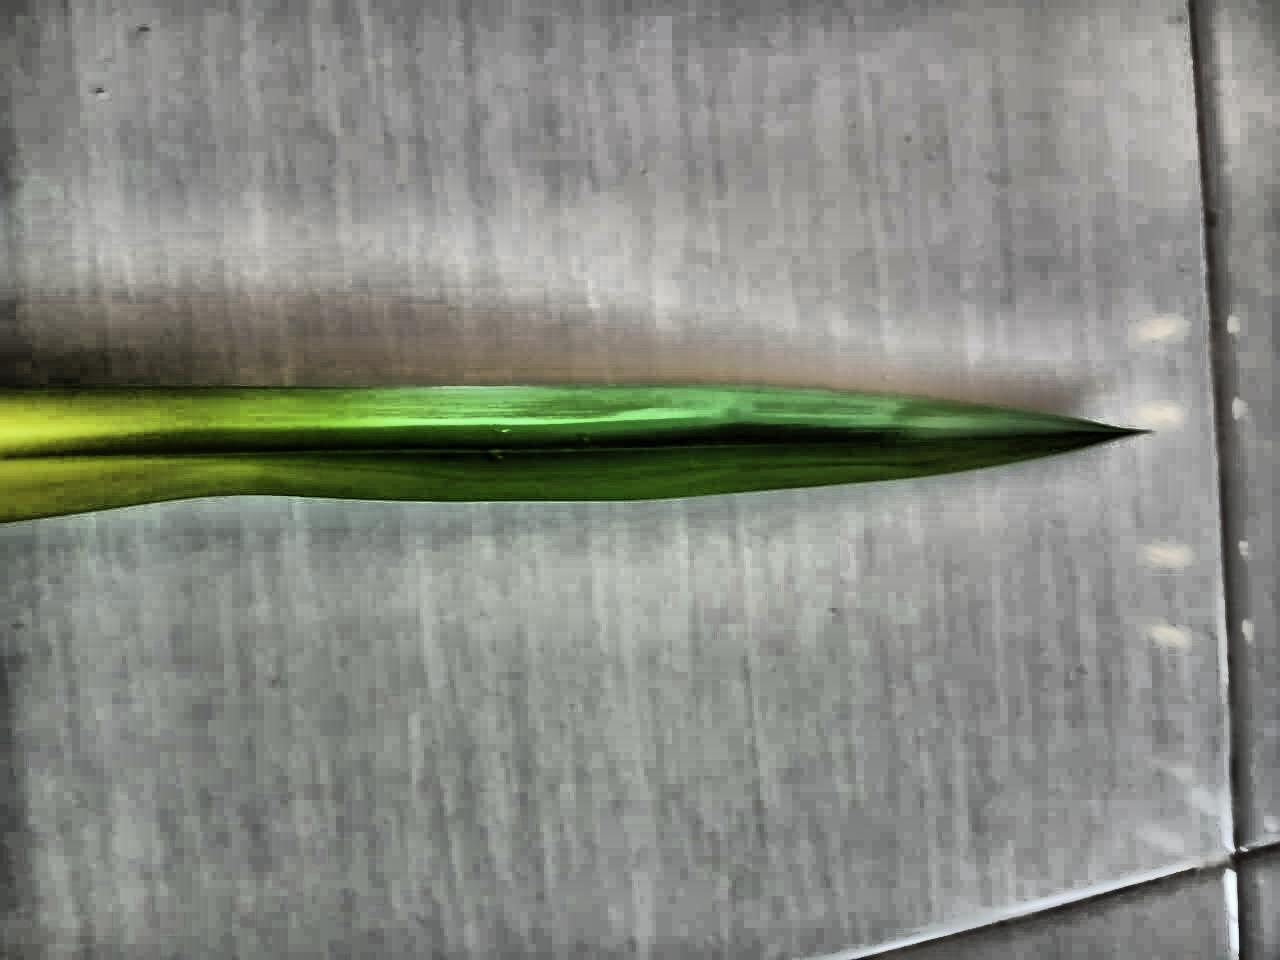daun pandan: (0, 386, 1138, 522)
